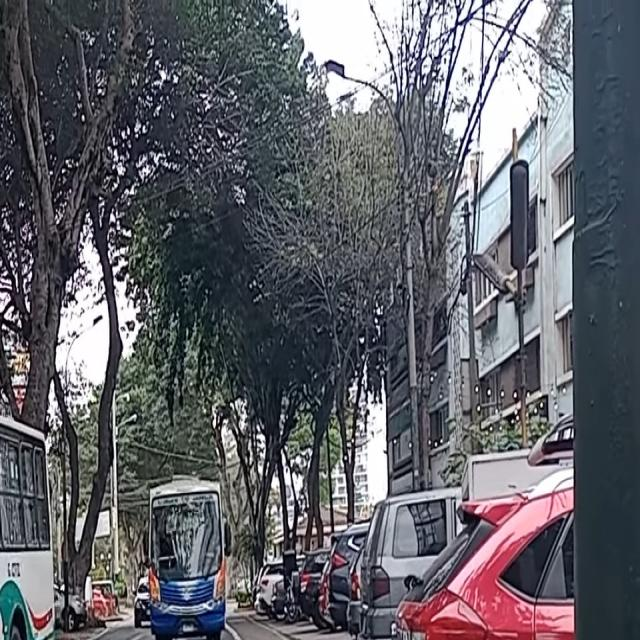bus: (0, 343, 56, 640), (147, 477, 226, 640)
car: (134, 576, 154, 628)
